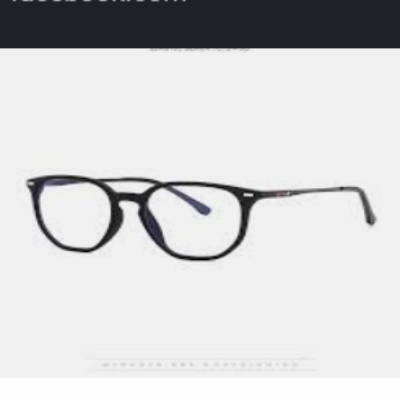glasses: (25, 165, 379, 273)
